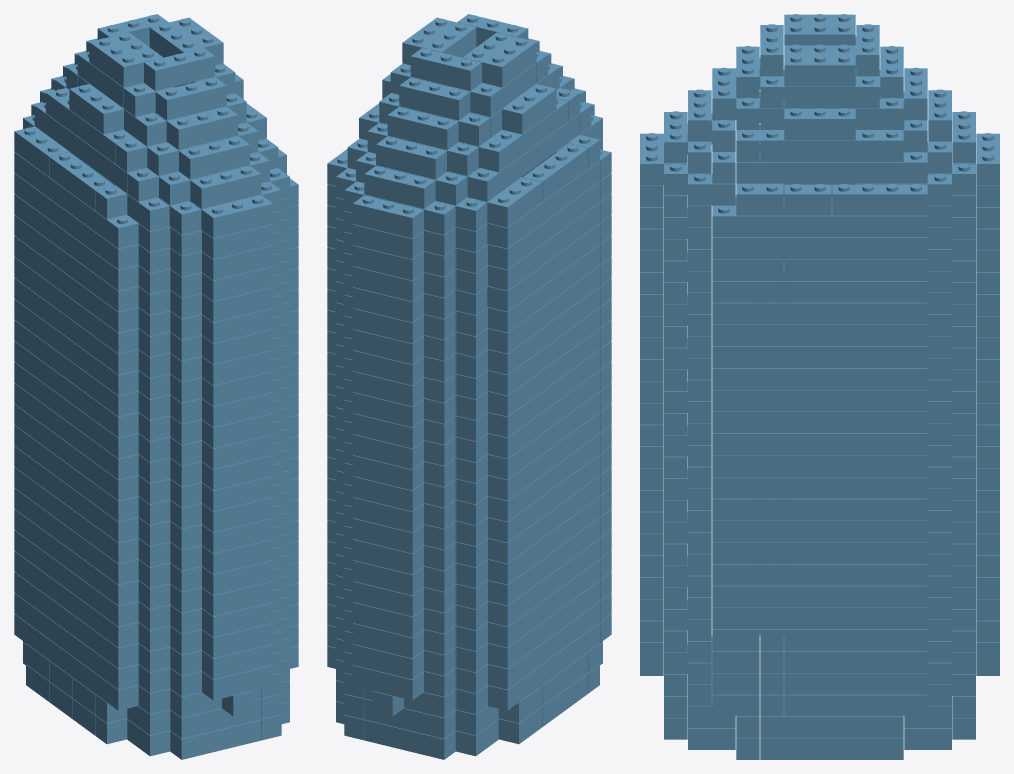
Rendered from 172_jar_L2.glb.
3 renders of one model, left to right at view 1: azimuth 30°, elevation 25°; view 2: azimuth 150°, elevation 25°; view 3: azimuth 270°, elevation 25°, orthographic. The views are drawn at different scales.
Bounding box in the file's own units: 8.98 × 31.13 × 14.98.
